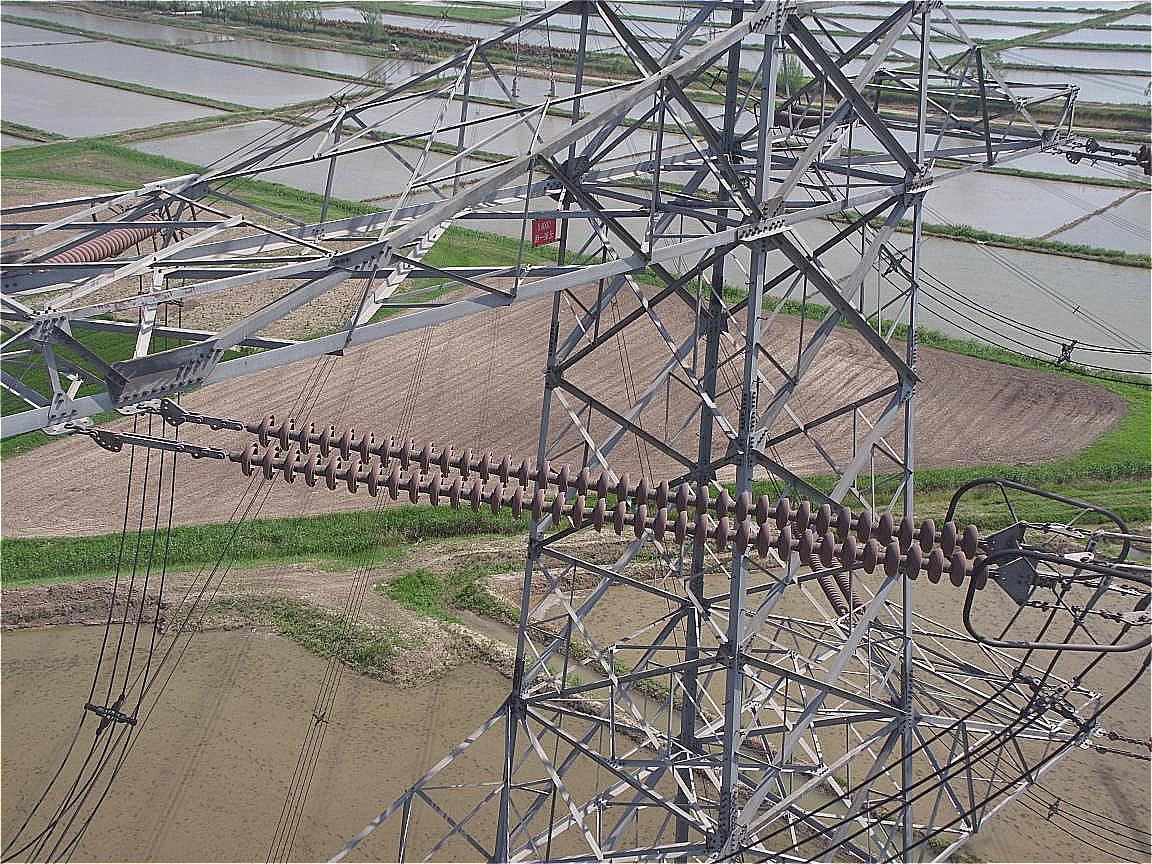insultor1: (206, 406, 1003, 594)
